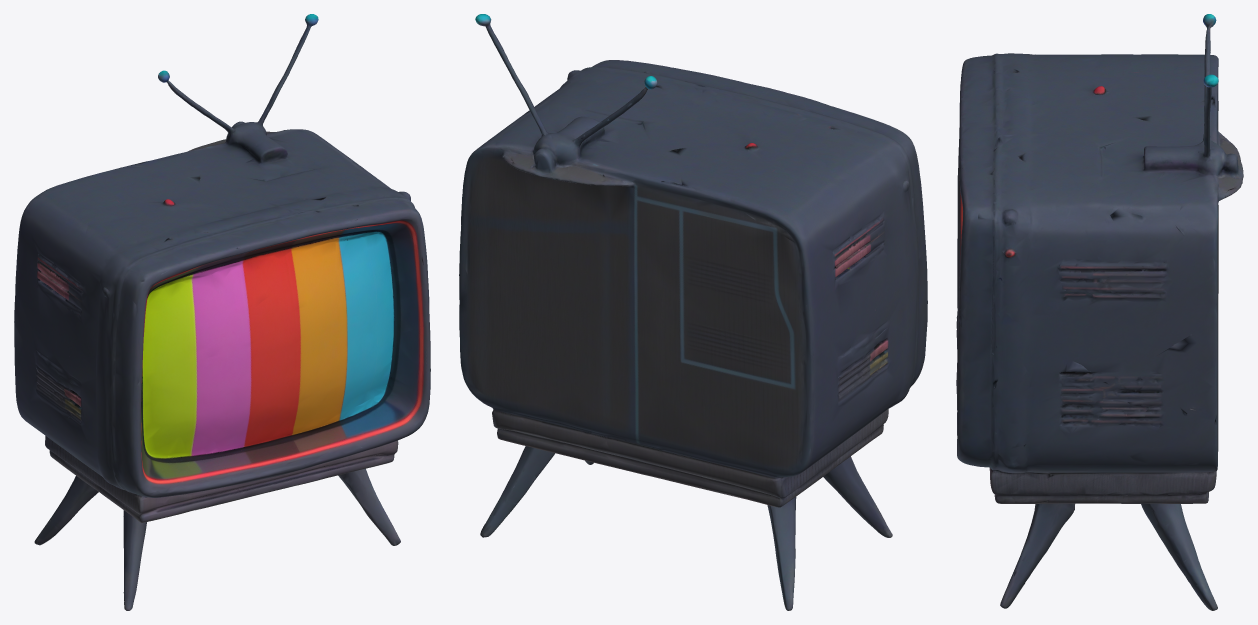
The picture shows the model from 3 angles, left to right: view 1: azimuth 30°, elevation 25°; view 2: azimuth 150°, elevation 25°; view 3: azimuth 270°, elevation 25°; orthographic projection. The views are drawn at different scales.
Bounding box in the file's own units: 1.43 × 2 × 0.9719.
Materials: 1 (1 with a texture image).
